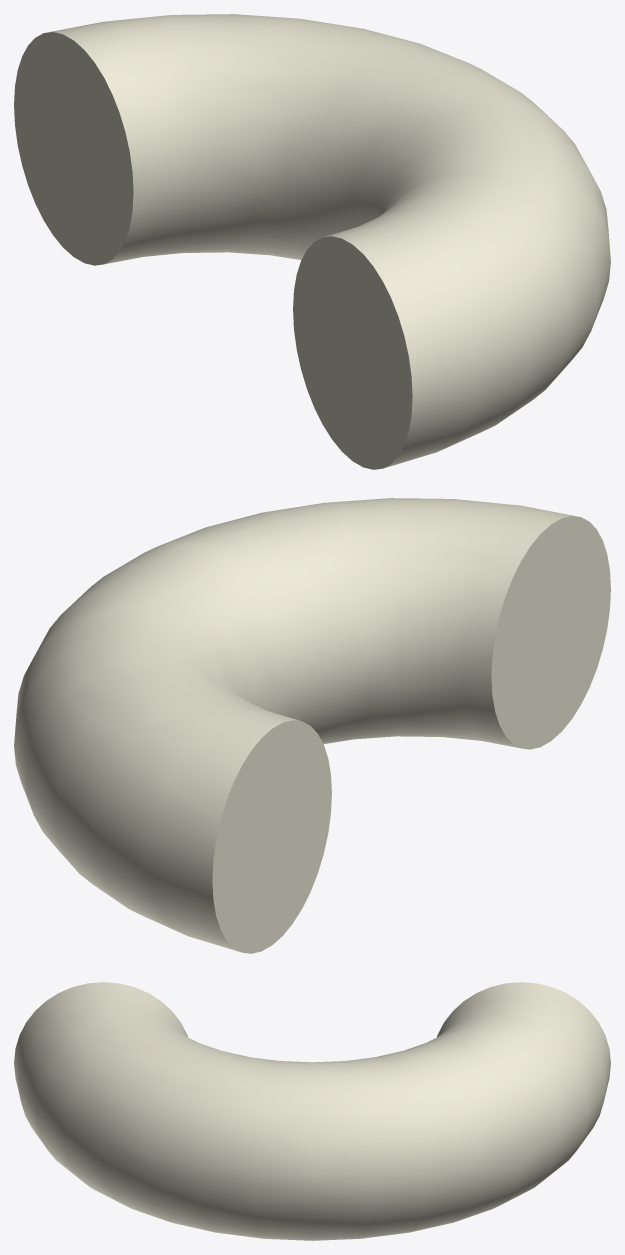
The model's file is Shape_Pipe_180.glb.
The picture shows the model from 3 angles, top to bottom: view 1: azimuth 30°, elevation 25°; view 2: azimuth 150°, elevation 25°; view 3: azimuth 270°, elevation 25°; orthographic projection. The views are drawn at different scales.
Visible parts, largest first — view 1: Shape_Pipe_180; view 2: Shape_Pipe_180; view 3: Shape_Pipe_180.
Part boxes in pixels (x1,y1,x2,y2): Shape_Pipe_180: [14, 14, 610, 469]; Shape_Pipe_180: [14, 498, 610, 953]; Shape_Pipe_180: [14, 982, 610, 1240].
Bounding box in the file's own units: 0.5 × 0.3 × 1.
